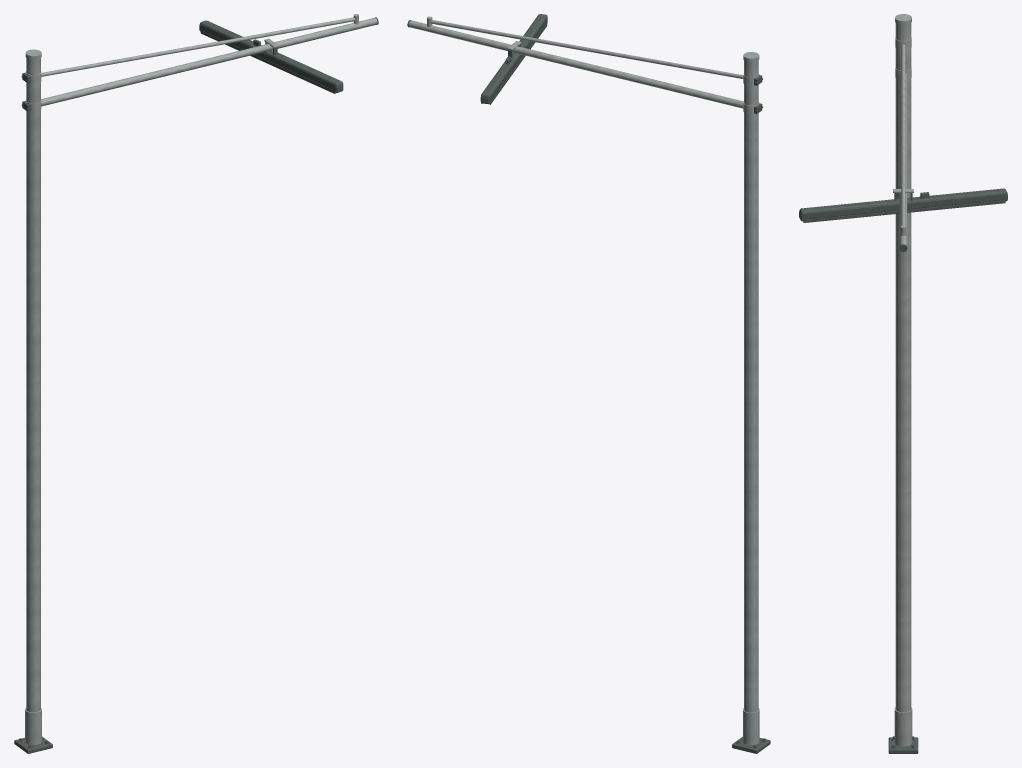
File: station-lamp.glb
3 views of the same model, side by side, from view 1: azimuth 30°, elevation 25°; view 2: azimuth 150°, elevation 25°; view 3: azimuth 270°, elevation 25° (orthographic). The views are drawn at different scales.
Visible parts, largest first — view 1: Station lamp / Weathered off-white painted pipe, Station lamp / Dull grey fixture shell and fasteners; view 2: Station lamp / Weathered off-white painted pipe, Station lamp / Dull grey fixture shell and fasteners; view 3: Station lamp / Weathered off-white painted pipe, Station lamp / Dull grey fixture shell and fasteners.
Boxes of the visible parts, box(x1,y1,x2,y2) form: Station lamp / Weathered off-white painted pipe: box(25, 14, 377, 744); Station lamp / Dull grey fixture shell and fasteners: box(14, 17, 378, 753); Station lamp / Weathered off-white painted pipe: box(408, 16, 759, 744); Station lamp / Dull grey fixture shell and fasteners: box(407, 14, 770, 753); Station lamp / Weathered off-white painted pipe: box(893, 14, 913, 746); Station lamp / Dull grey fixture shell and fasteners: box(799, 188, 1007, 753).
Size of the model in its own units: 3.95 by 7.35 by 1.91.
Materials: 3 (3 with a texture image).
